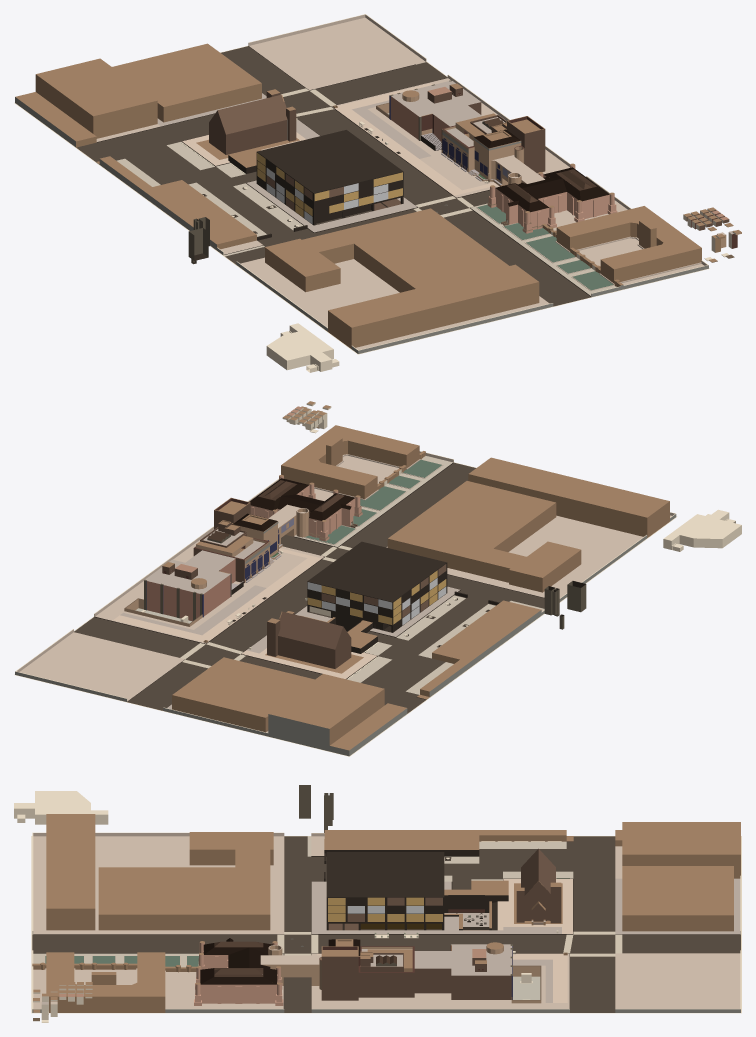
Rendered from Downtown NH.glb.
3 views of the same model, one above another, from view 1: azimuth 30°, elevation 25°; view 2: azimuth 150°, elevation 25°; view 3: azimuth 270°, elevation 25° (orthographic). The views are drawn at different scales.
Parts seen in each view (by area): view 1: MAP01 (×21), road_01, Road03, Road_02; view 2: MAP01 (×22), road_01, Road03, Road_02; view 3: MAP01 (×25), road_01, Road_02, Road03.
Boxes of the visible parts, x1=… form: MAP01 (×21): x1=14, y1=14, x2=741, y2=371; road_01: x1=76, y1=46, x2=590, y2=306; Road03: x1=84, y1=49, x2=577, y2=303; Road_02: x1=78, y1=64, x2=581, y2=299; MAP01 (×22): x1=14, y1=401, x2=741, y2=756; road_01: x1=74, y1=462, x2=544, y2=713; Road03: x1=81, y1=466, x2=475, y2=708; Road_02: x1=84, y1=469, x2=544, y2=711; MAP01 (×25): x1=14, y1=785, x2=741, y2=1022; road_01: x1=32, y1=836, x2=740, y2=1012; Road_02: x1=52, y1=836, x2=615, y2=1007; Road03: x1=32, y1=836, x2=740, y2=1012.
Size of the model in its own units: 9906 by 1464 by 13320.
